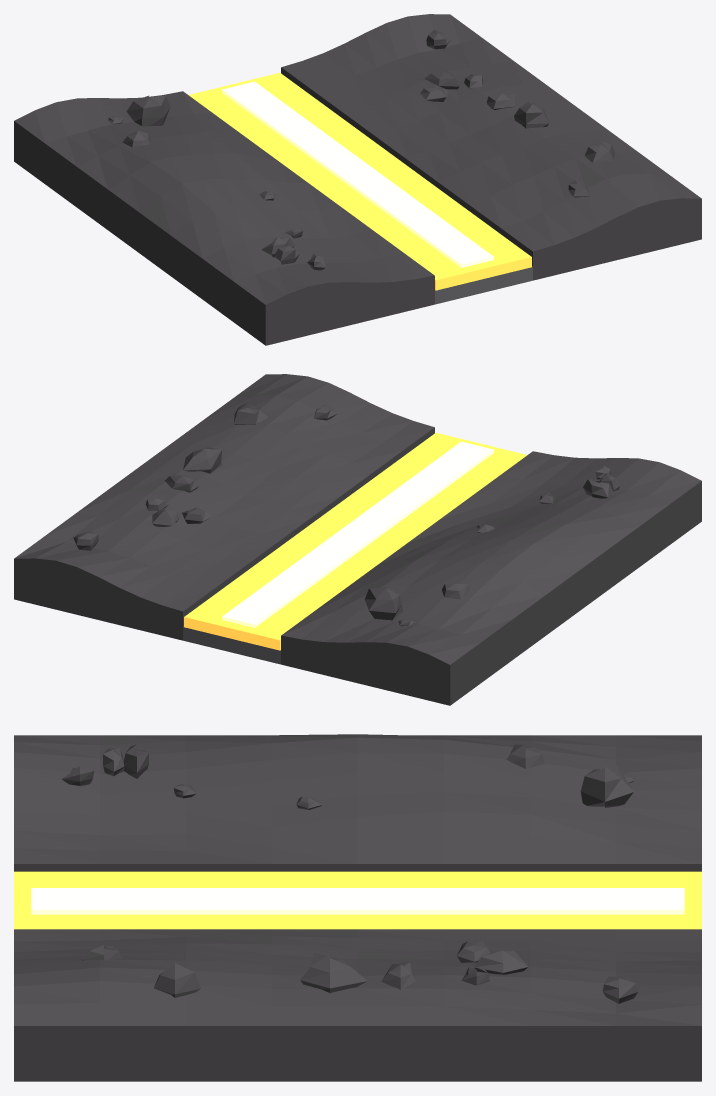
Rendered from volcano-and-lava-fields-volcano-and-lava-fields-fissur-0026ff27__37448.glb.
The picture shows the model from 3 angles, top to bottom: view 1: azimuth 30°, elevation 25°; view 2: azimuth 150°, elevation 25°; view 3: azimuth 270°, elevation 25°; orthographic projection. The views are drawn at different scales.
Visible parts, largest first — view 1: volcano-and-lava-fields-fissure-edge-module; view 2: volcano-and-lava-fields-fissure-edge-module; view 3: volcano-and-lava-fields-fissure-edge-module.
Part boxes in pixels (box(x1,y1,x2,y2)): volcano-and-lava-fields-fissure-edge-module: box(14, 14, 701, 345); volcano-and-lava-fields-fissure-edge-module: box(14, 374, 701, 705); volcano-and-lava-fields-fissure-edge-module: box(14, 734, 701, 1081).
Bounding box in the file's own units: 4 × 0.5943 × 4.
4 materials, 1 textured.
